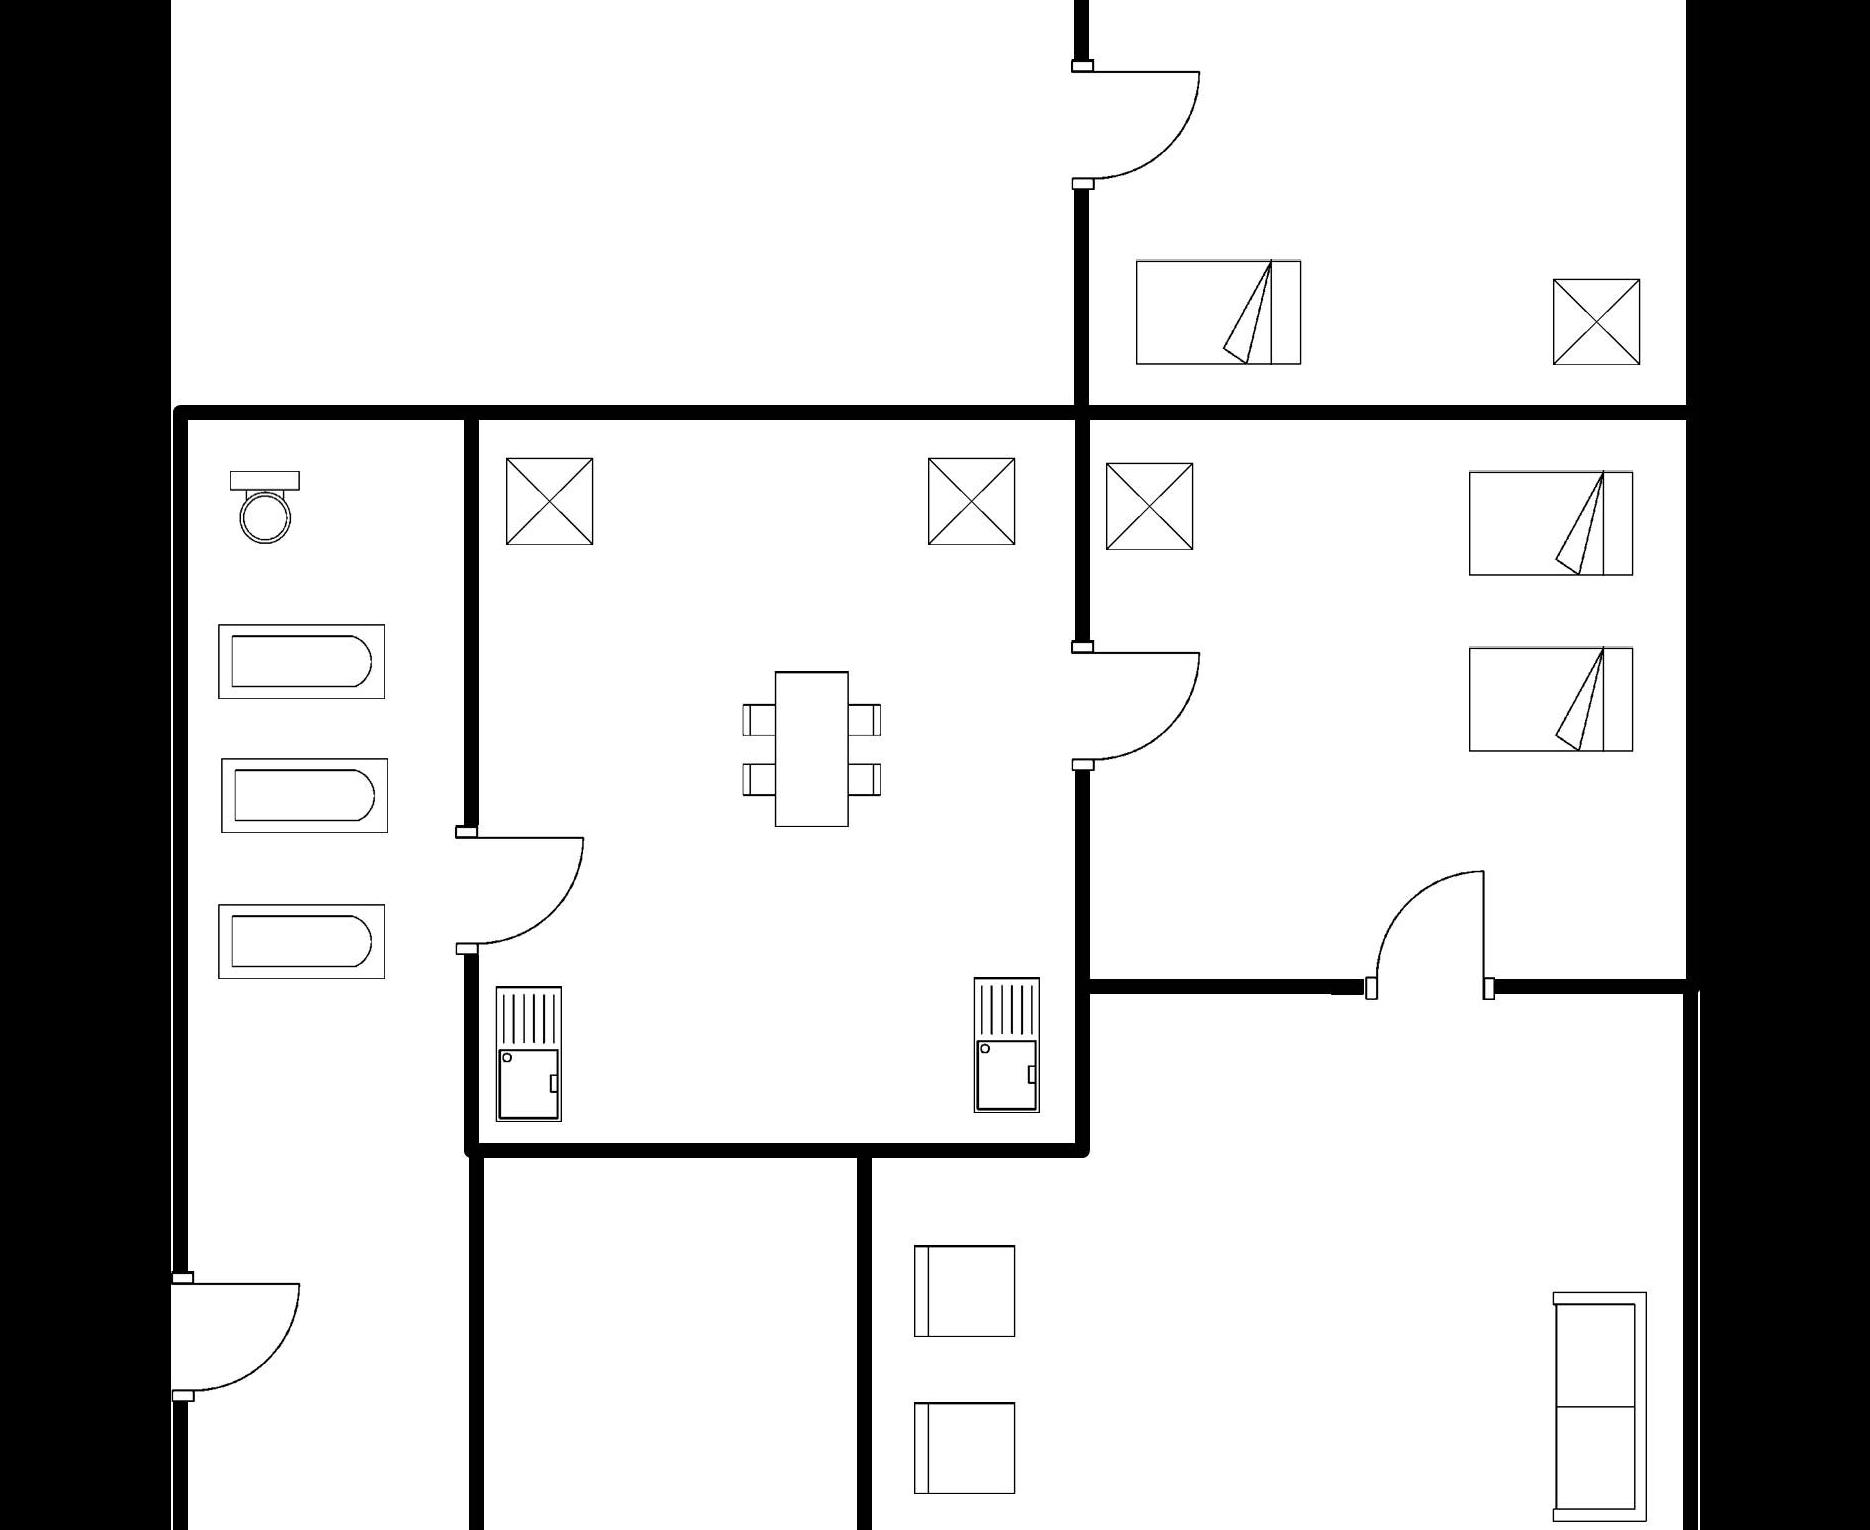bed: (1458, 457, 1649, 590), (1458, 631, 1646, 764), (1126, 245, 1314, 377)
dining_table: (728, 660, 892, 839)
sink: (965, 968, 1051, 1121), (486, 979, 573, 1131)
sofa: (1541, 1278, 1656, 1530)
toilet: (221, 457, 311, 544)
tub: (203, 892, 398, 991), (207, 610, 398, 710), (207, 746, 395, 842)
